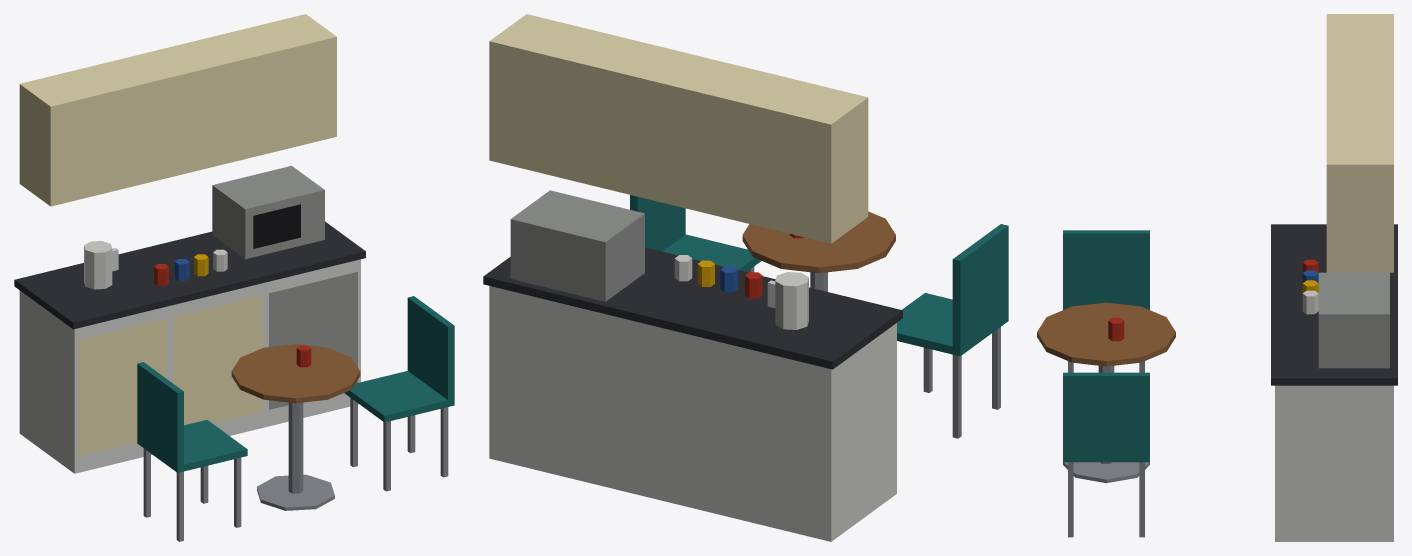
Rendered from prop_tea-point.d8881fc79d92.glb.
3 views of the same model, side by side, from view 1: azimuth 30°, elevation 25°; view 2: azimuth 150°, elevation 25°; view 3: azimuth 270°, elevation 25° (orthographic). The views are drawn at different scales.
Visible parts, largest first — view 1: body; view 2: body; view 3: body.
Boxes of the visible parts, x1,y1,x2,y2 form: body: [14, 14, 454, 541]; body: [483, 14, 1008, 541]; body: [1037, 14, 1397, 541].
Bounding box in the file's own units: 1.84 × 2.1 × 1.82.
